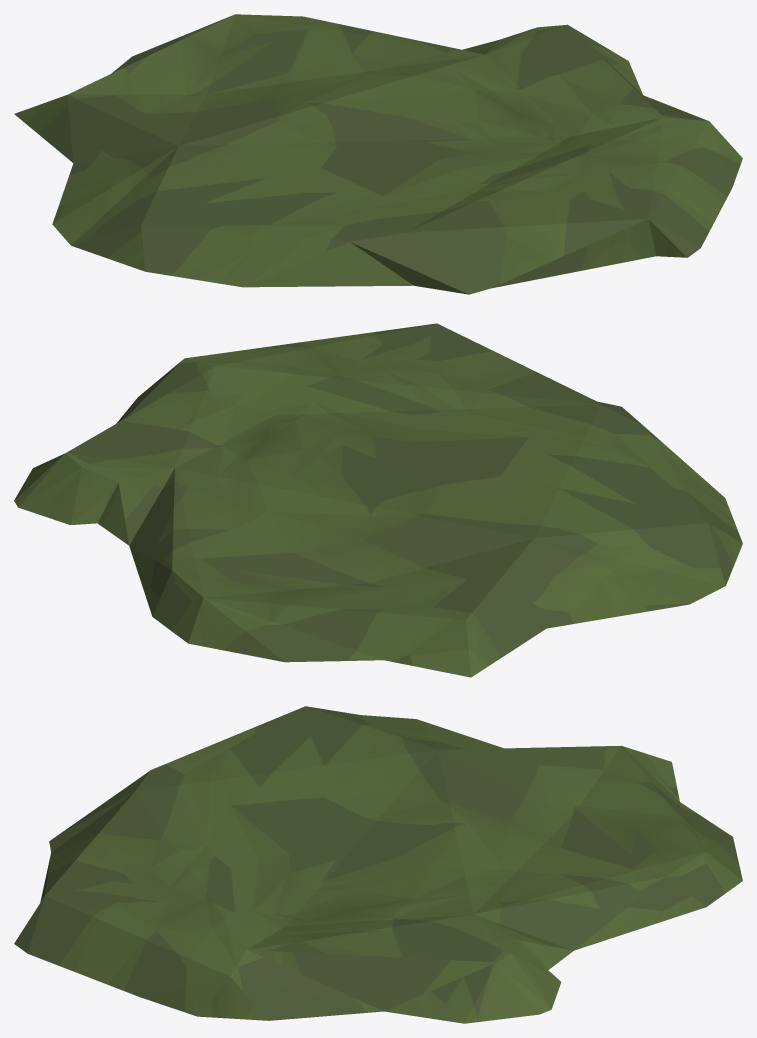
File: synty-terrain-swamp-growth-03.gltf
3 renders of one model, top to bottom at view 1: azimuth 30°, elevation 25°; view 2: azimuth 150°, elevation 25°; view 3: azimuth 270°, elevation 25°, orthographic. The views are drawn at different scales.
Visible parts, largest first — view 1: SM_Terrain_Swamp_Growth_03; view 2: SM_Terrain_Swamp_Growth_03; view 3: SM_Terrain_Swamp_Growth_03.
Part boxes in pixels (box(x1,y1,x2,y2)): SM_Terrain_Swamp_Growth_03: box(14, 14, 742, 294); SM_Terrain_Swamp_Growth_03: box(14, 323, 742, 677); SM_Terrain_Swamp_Growth_03: box(14, 706, 742, 1023).
Size of the model in its own units: 2.18 by 0.1275 by 2.17.
1 material, 1 textured.
